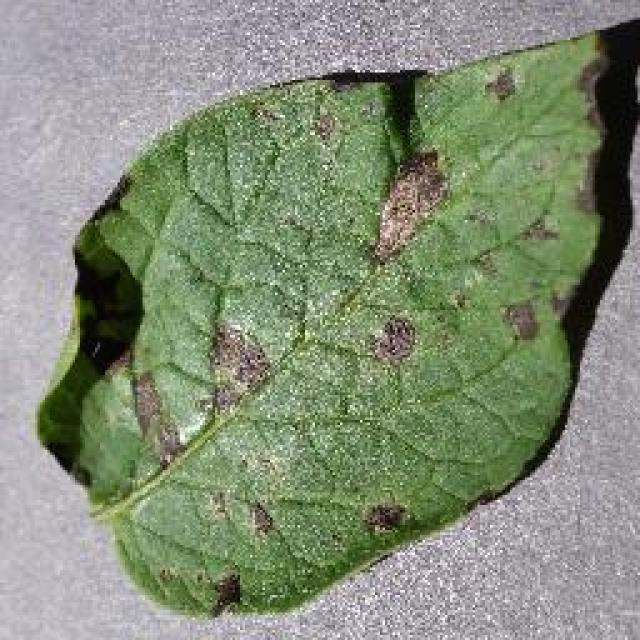early_blight: (32, 12, 628, 622)
